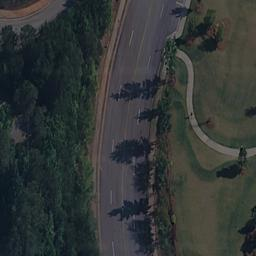Double Solid Yellow Line: (123, 83, 135, 192), (134, 18, 149, 76), (121, 193, 124, 254)
White Dashed Line: (144, 6, 167, 71), (108, 80, 124, 158), (131, 101, 142, 185), (128, 193, 141, 256), (107, 183, 117, 256), (120, 25, 135, 56)
